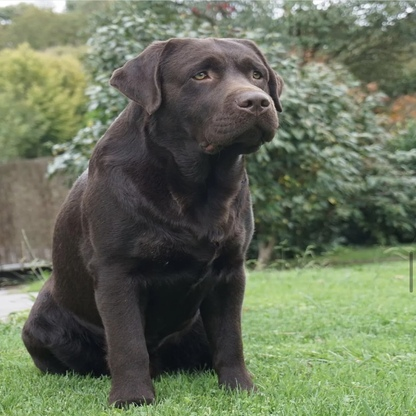labrado: (18, 30, 286, 410)
